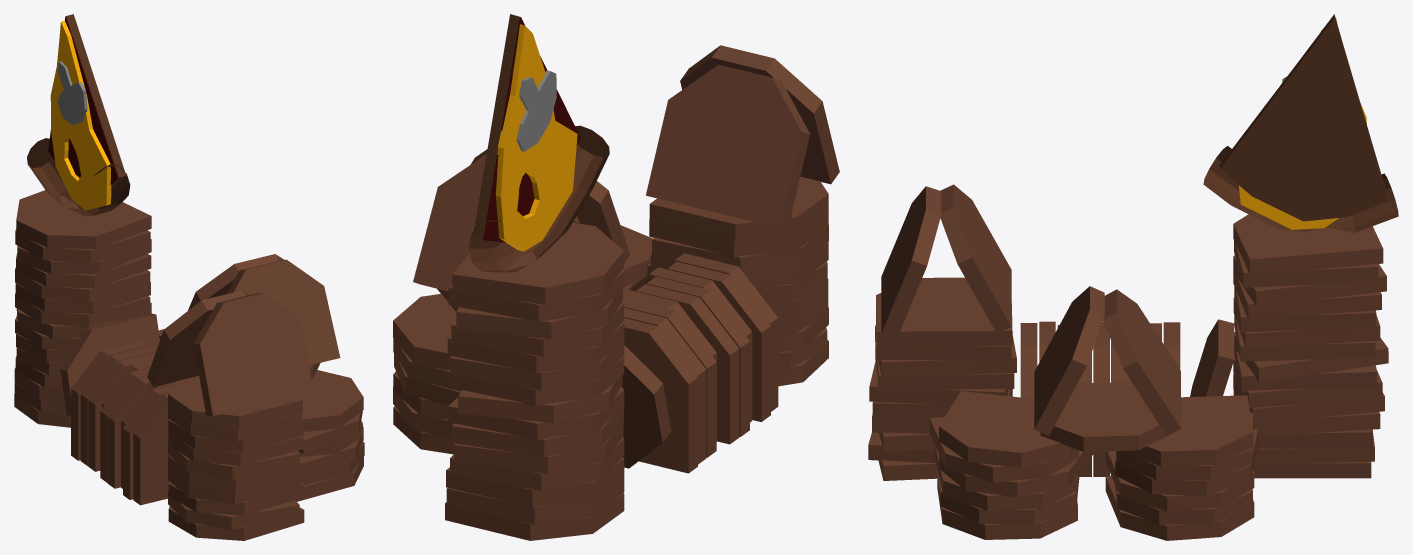
File: wieza_pizzka.obj
The picture shows the model from 3 angles, left to right: view 1: azimuth 30°, elevation 25°; view 2: azimuth 150°, elevation 25°; view 3: azimuth 270°, elevation 25°; orthographic projection. The views are drawn at different scales.
Parts seen in each view (by area): view 1: Cube.011; view 2: Cube.011; view 3: Cube.011.
Boxes of the visible parts, box(x1,y1,x2,y2) form: Cube.011: box(14, 14, 364, 540); Cube.011: box(393, 14, 839, 540); Cube.011: box(868, 14, 1398, 540).
Size of the model in its own units: 5.93 by 9.97 by 10.87.
